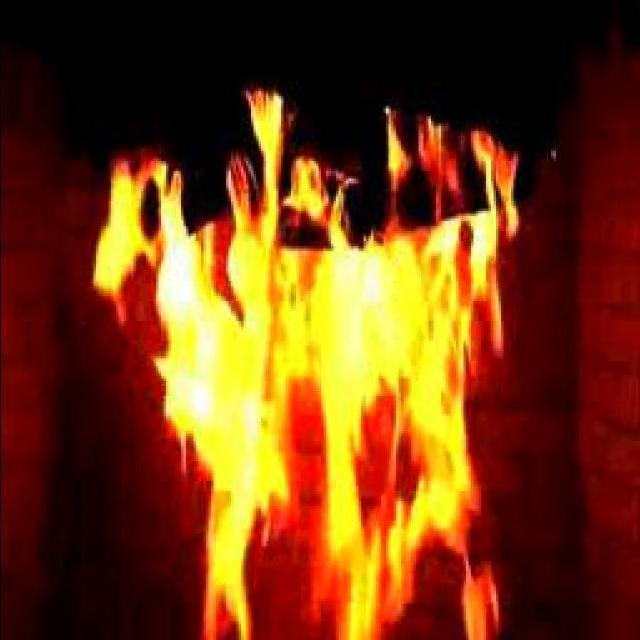Fire: (109, 194, 502, 616)
